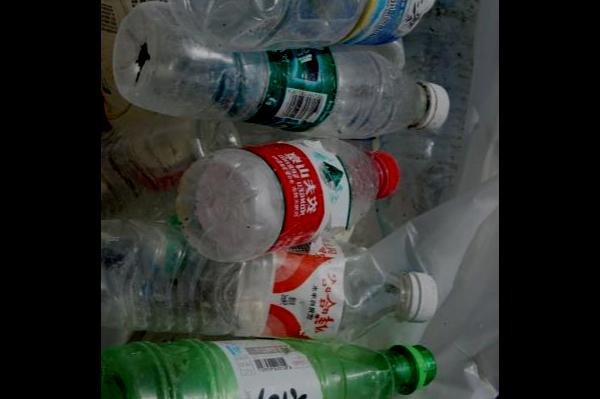bottle: (112, 0, 448, 141), (100, 218, 440, 340), (178, 141, 400, 266), (105, 339, 436, 399), (160, 0, 440, 43)
